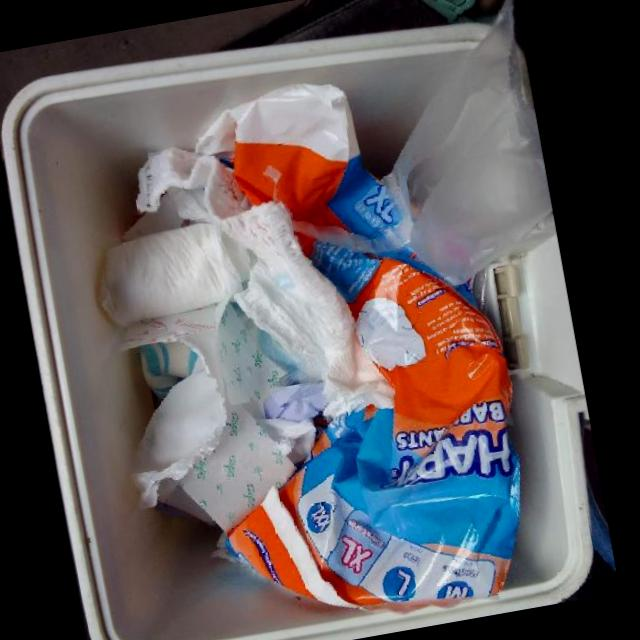giay: (134, 142, 392, 415), (100, 184, 251, 328), (172, 399, 294, 533), (133, 371, 228, 526), (113, 301, 223, 374), (213, 299, 282, 401), (135, 347, 202, 401), (246, 416, 314, 460)
tui_ni_long: (223, 82, 525, 613), (391, 12, 556, 285)
